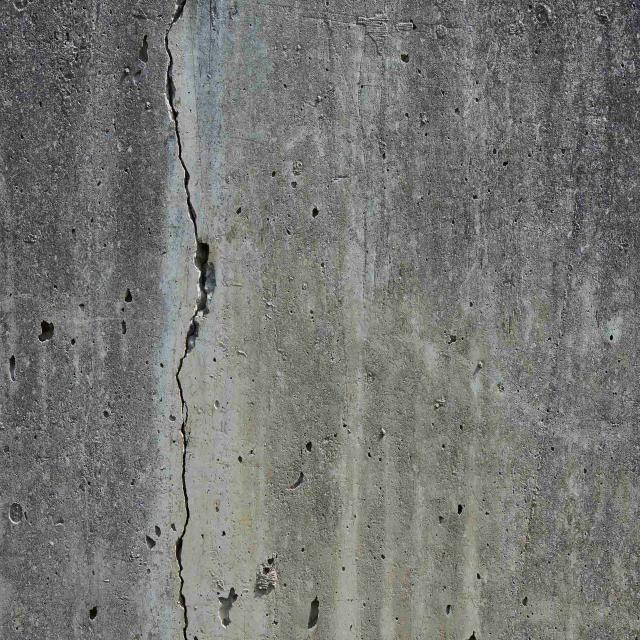Wall_Cracks: (114, 1, 295, 640)
